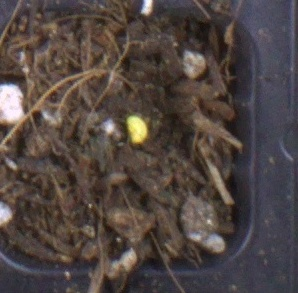chilli seed: (125, 115, 148, 145)
